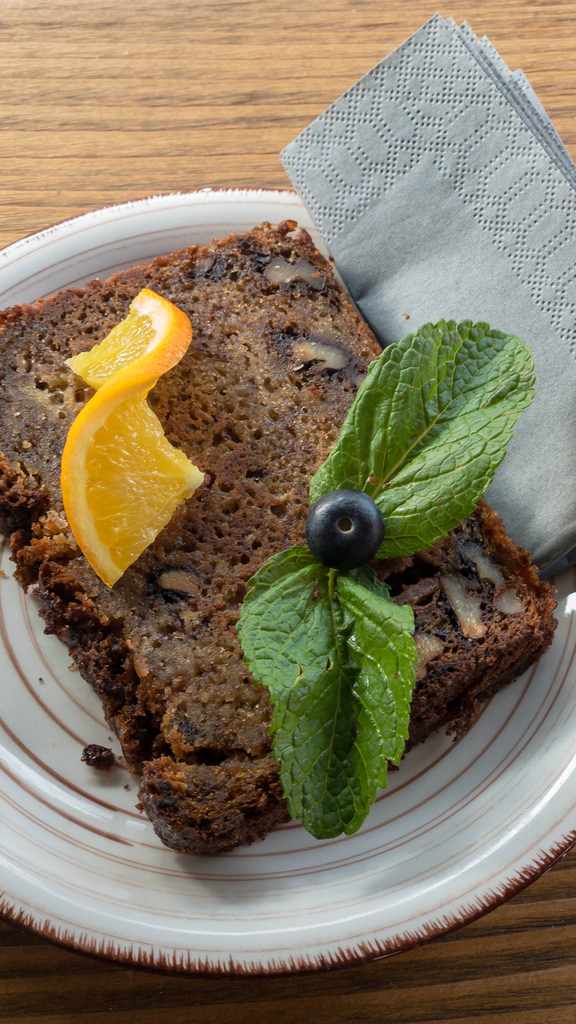slice of bread: (28, 310, 506, 751)
